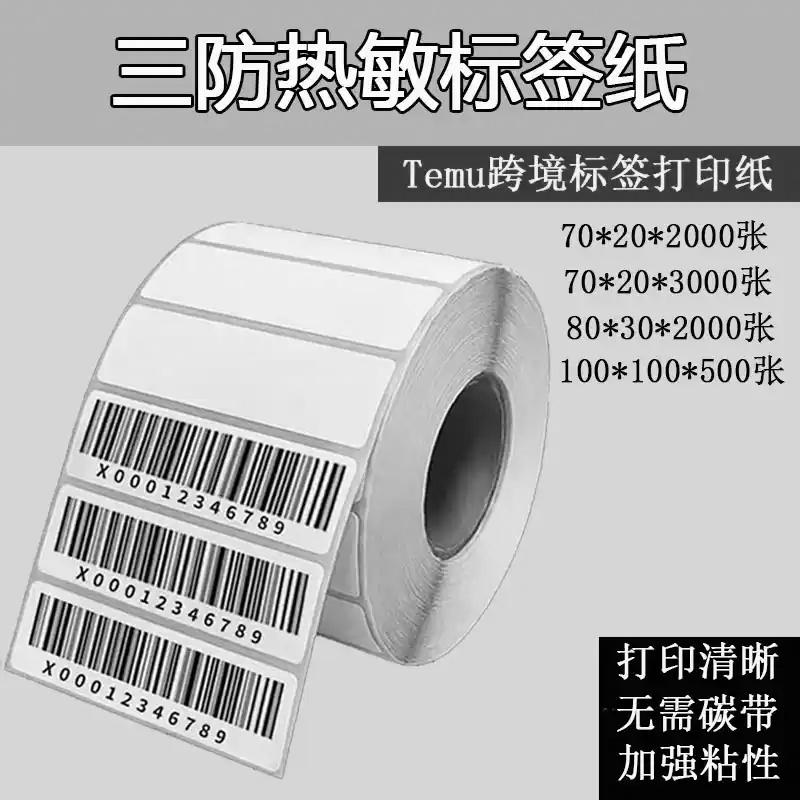Barcode: (9, 567, 288, 761), (28, 480, 323, 650), (60, 383, 358, 534)
